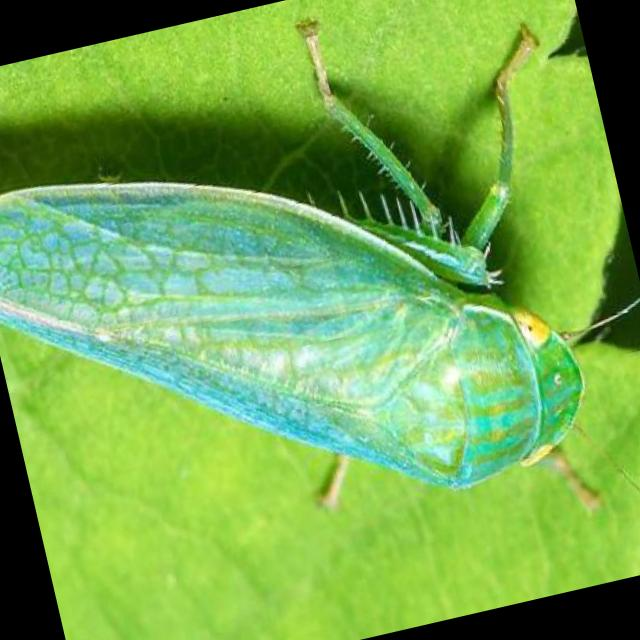green-leafhopper: (0, 80, 591, 583)
